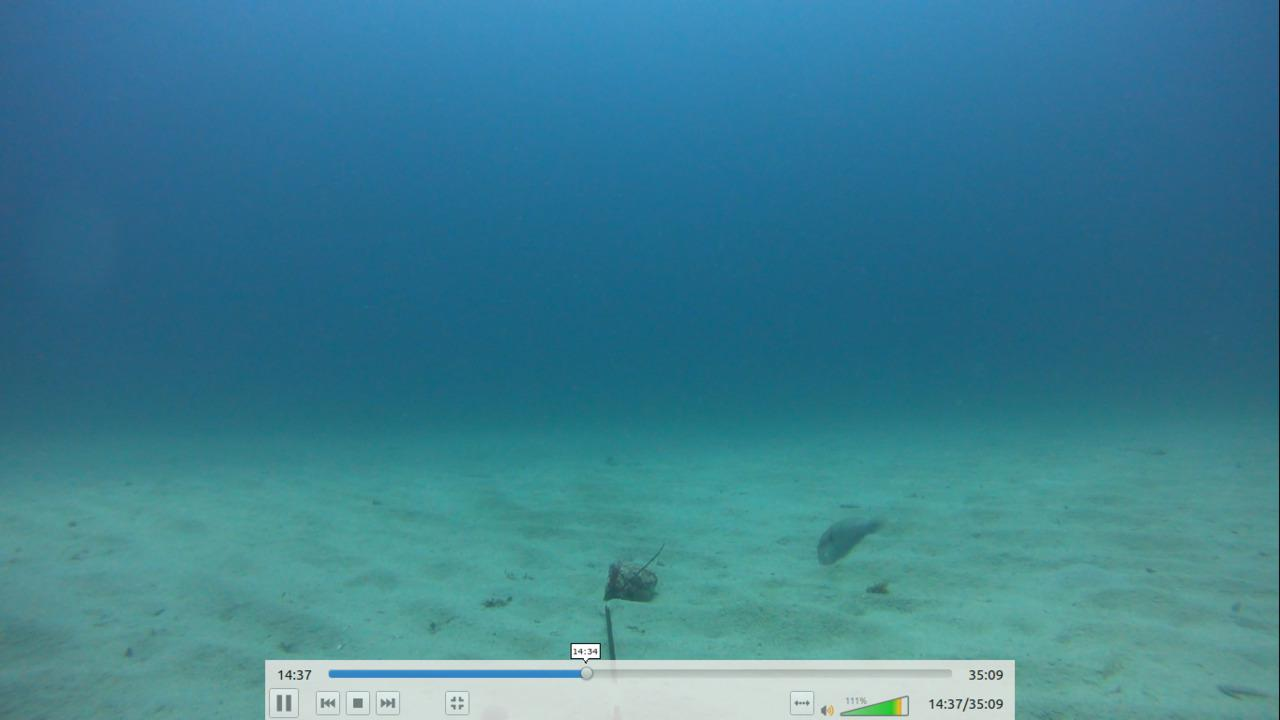raor: (806, 510, 890, 572)
